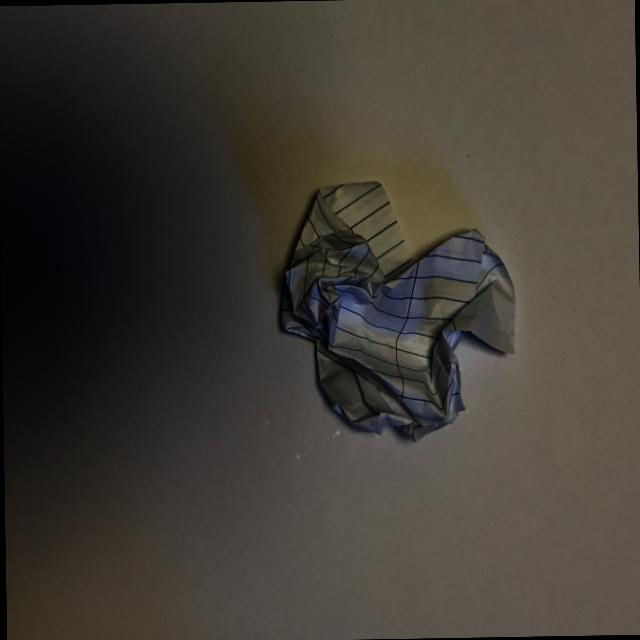Paper: (252, 168, 533, 474)
